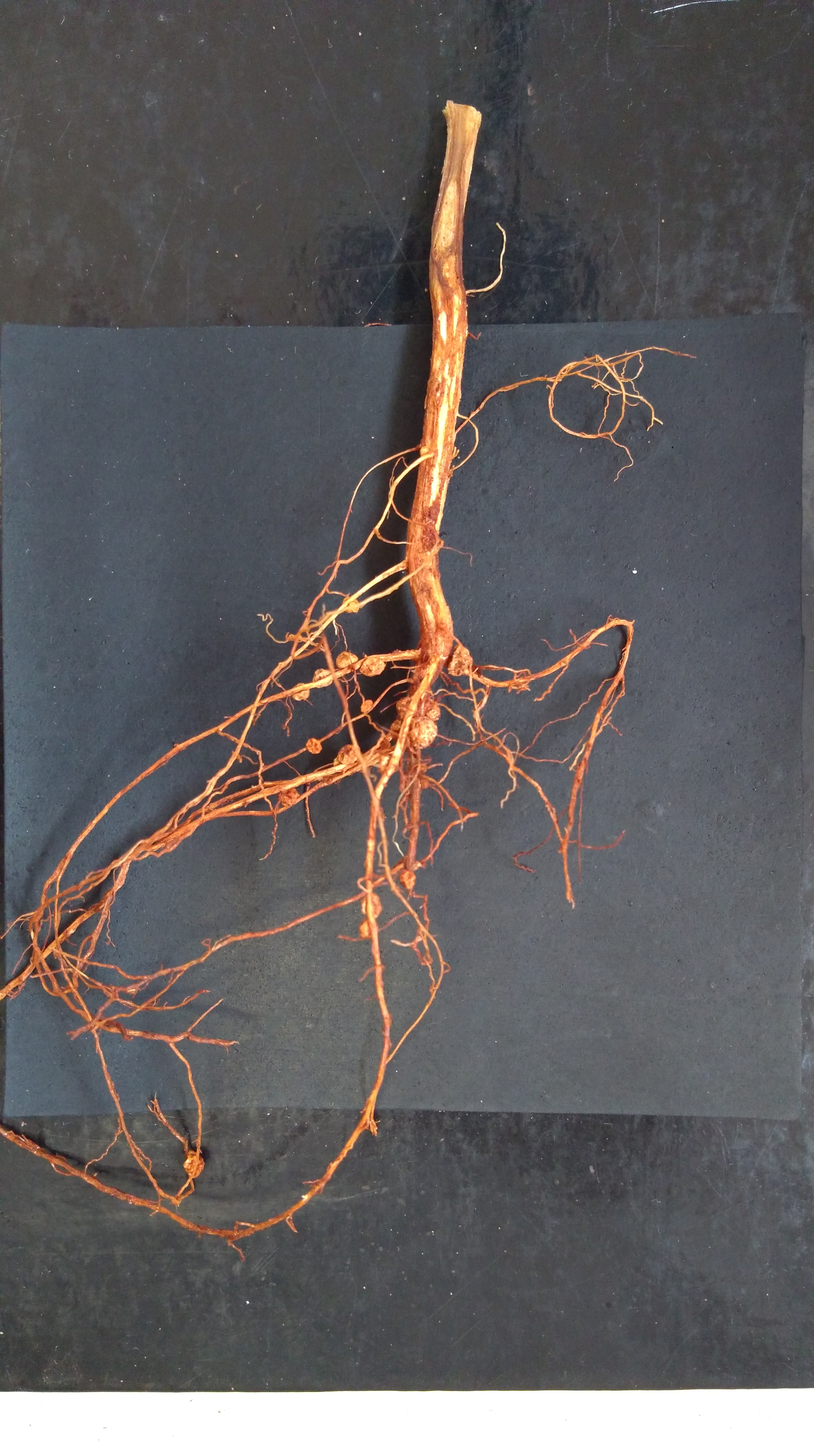nodule: (408, 716, 440, 750), (446, 642, 473, 678), (181, 1148, 208, 1180), (358, 891, 384, 919), (358, 657, 389, 679), (336, 743, 362, 765), (276, 787, 302, 809), (311, 666, 333, 690), (377, 753, 401, 775), (335, 649, 359, 670), (341, 595, 363, 617), (398, 869, 418, 893), (291, 681, 311, 703), (394, 695, 413, 718), (356, 918, 374, 942), (424, 701, 442, 722), (305, 736, 324, 755), (388, 719, 402, 741), (358, 698, 375, 714)
